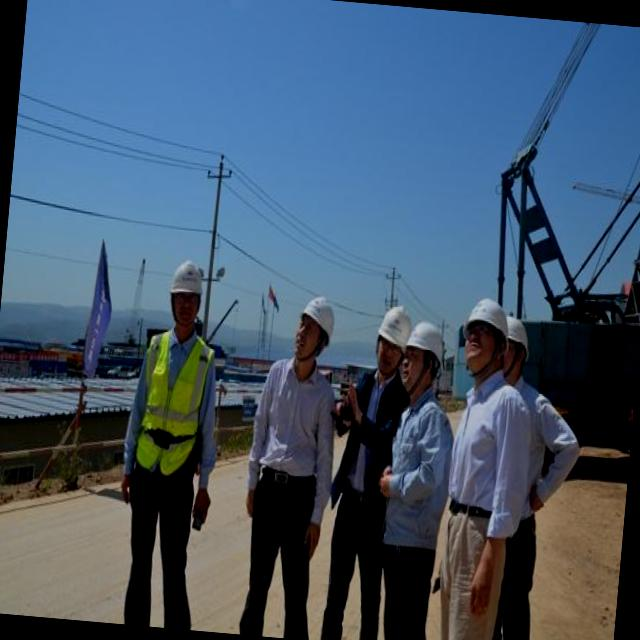helmet: (456, 296, 514, 350), (402, 307, 450, 364), (372, 298, 408, 356), (166, 258, 208, 302), (303, 294, 335, 336)
no-vest: (312, 285, 414, 640), (442, 374, 528, 530), (384, 396, 456, 564), (256, 362, 323, 480), (336, 370, 397, 495)
vest: (127, 328, 215, 476)
